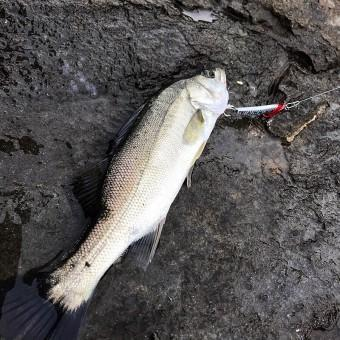fish: (0, 69, 228, 339)
